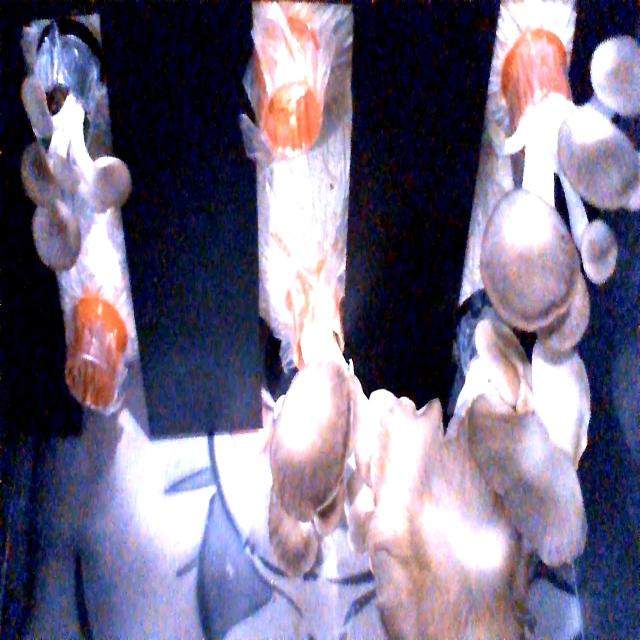big: (374, 326, 600, 640), (470, 30, 640, 360), (254, 342, 366, 572)
nfound: (258, 58, 320, 172), (58, 330, 126, 430)
small: (16, 55, 129, 281)
